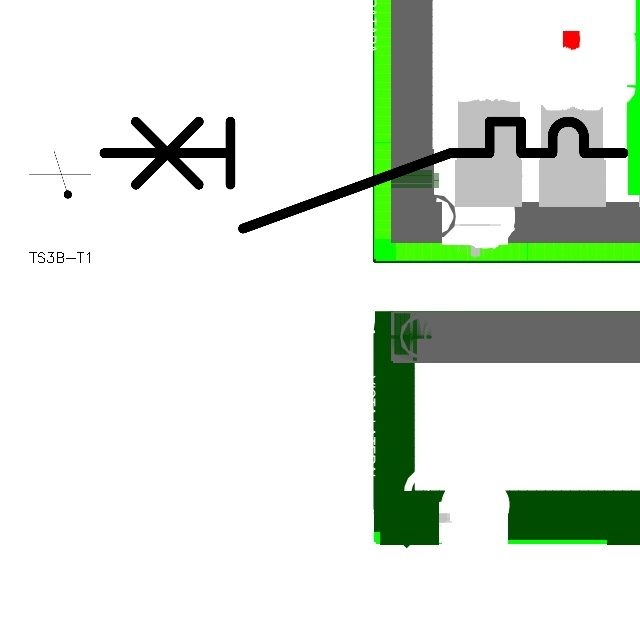interruptor_termomagnetico: (90, 108, 636, 241)
